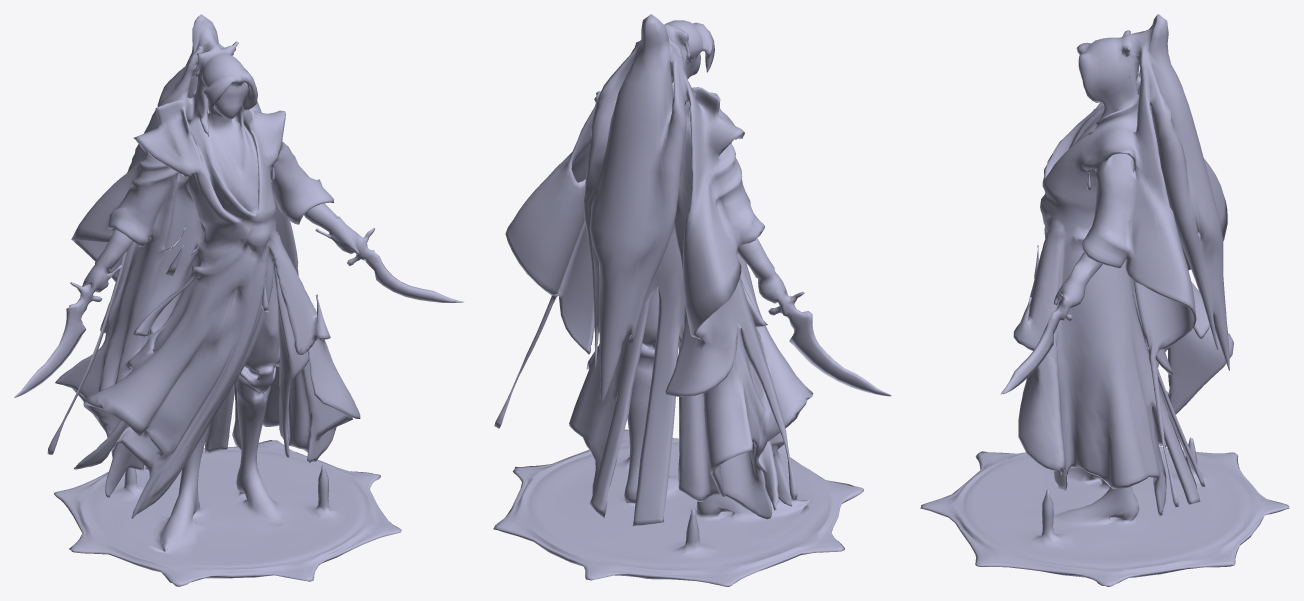
The model's file is veil-tactician.glb.
3 views of the same model, side by side, from view 1: azimuth 30°, elevation 25°; view 2: azimuth 150°, elevation 25°; view 3: azimuth 270°, elevation 25° (orthographic). The views are drawn at different scales.
Parts seen in each view (by area): view 1: model; view 2: model; view 3: model.
Boxes of the visible parts, x1,y1,x2,y2 form: model: [14, 14, 464, 586]; model: [493, 14, 891, 586]; model: [920, 14, 1289, 586].
Bounding box in the file's own units: 1.6 × 1.9 × 1.26.
